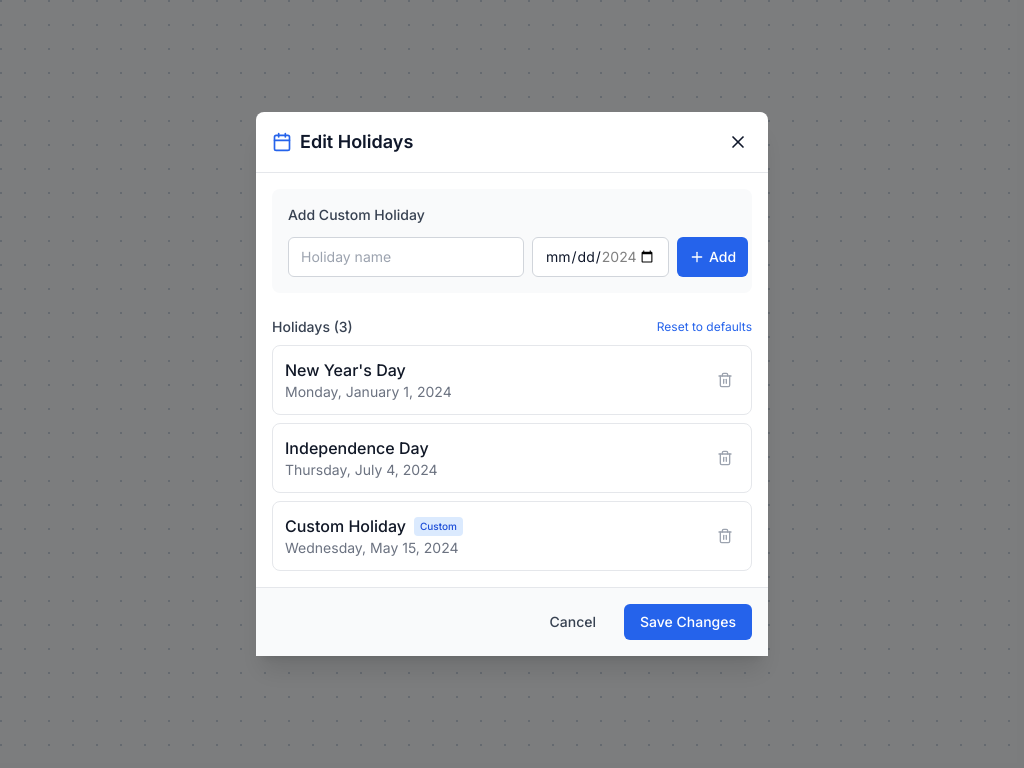
HolidayEditModal › Adding Holidays › should add a new holiday
Type "Spring Break" into the field with placeholder "Holiday name" at (406, 257), box [288, 237, 524, 277]
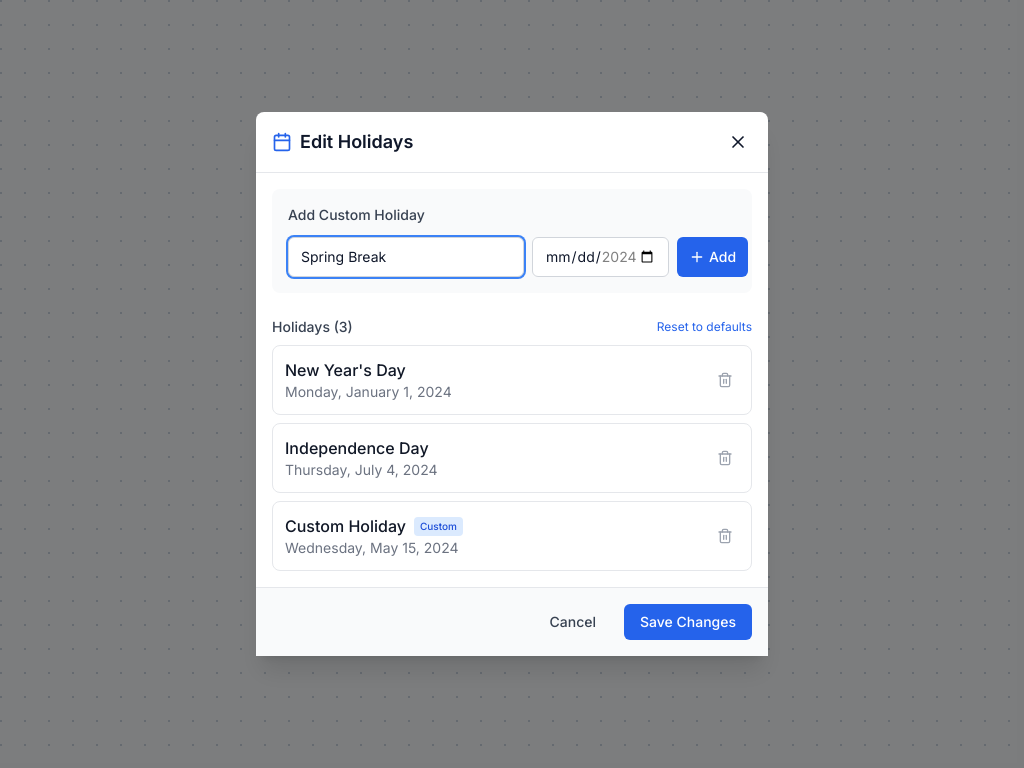
Type "2024-03-15" into the date field at (600, 257), box [532, 237, 669, 277]
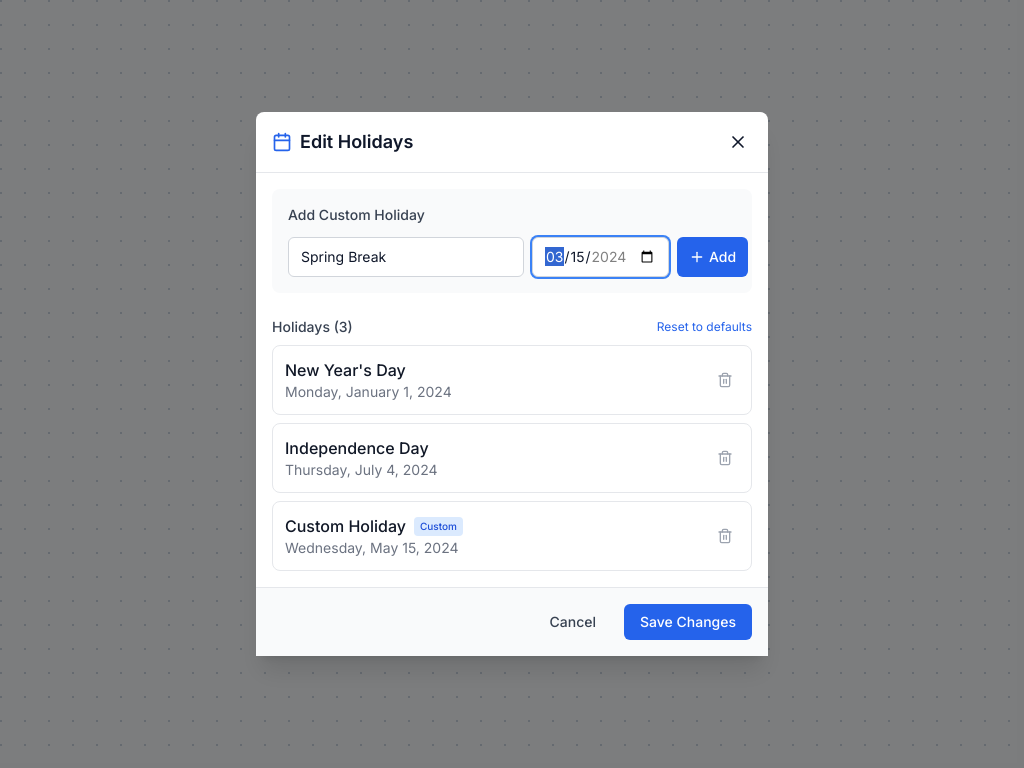
Click the button "Add" at (713, 257), box [677, 237, 748, 277]
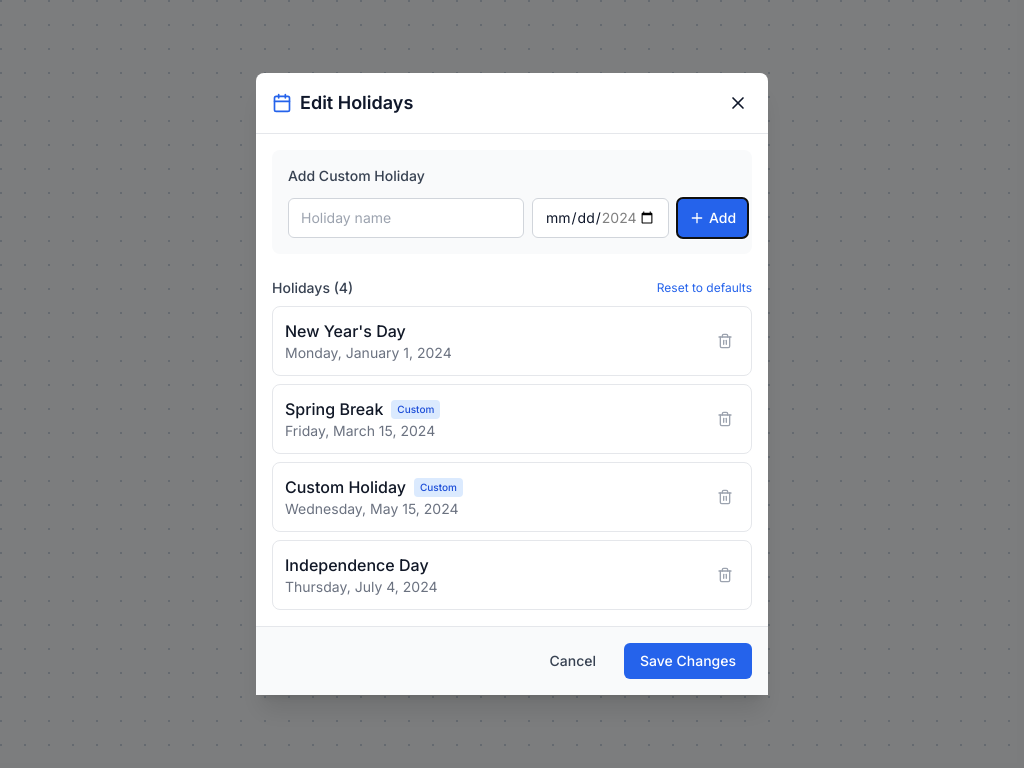
Check: the text "Spring Break" is shown, box [285, 397, 383, 421]
